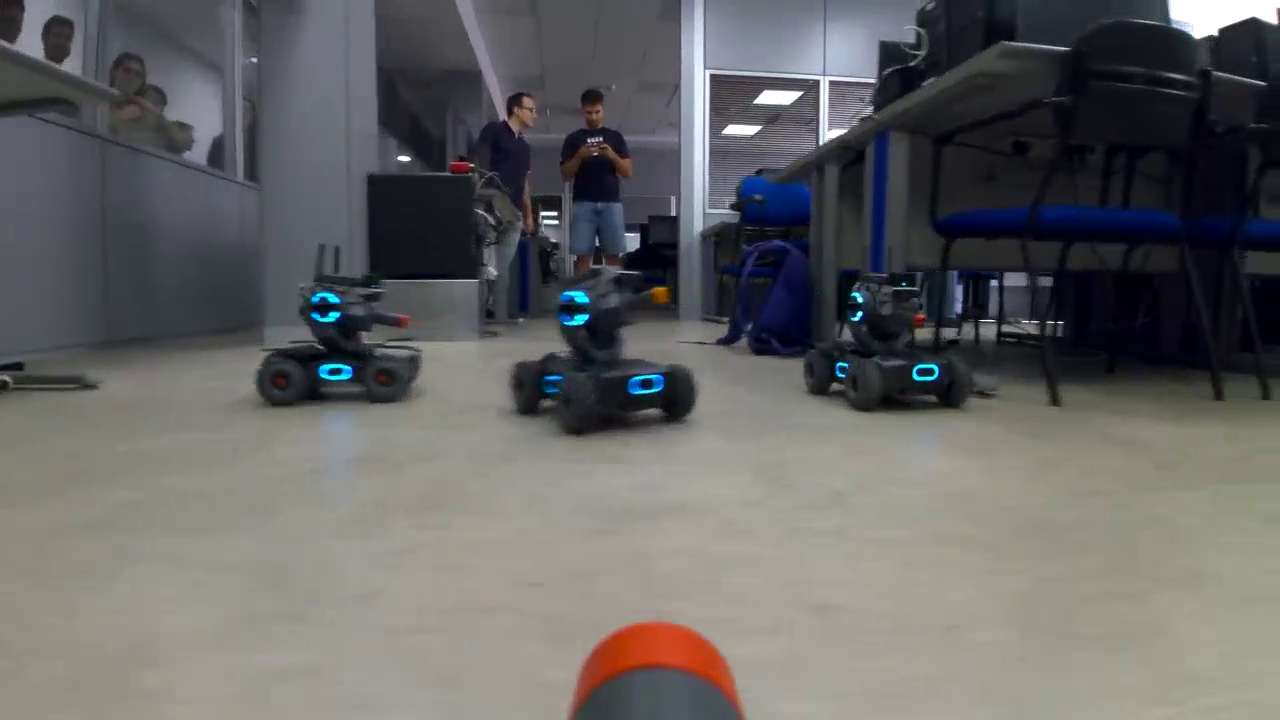robot: (502, 264, 705, 443), (801, 268, 975, 417), (252, 262, 413, 412)
